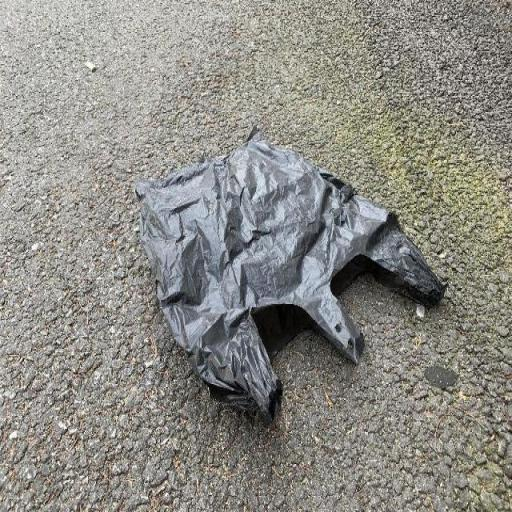plastic-bag: (132, 121, 452, 426)
